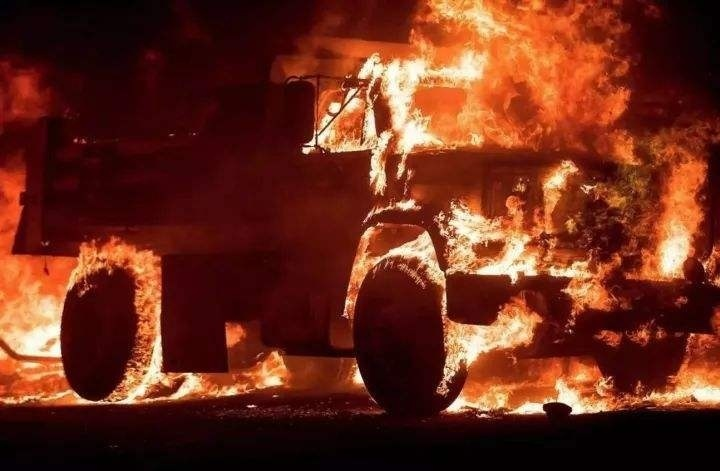fire: (292, 0, 720, 429), (0, 41, 173, 410)
